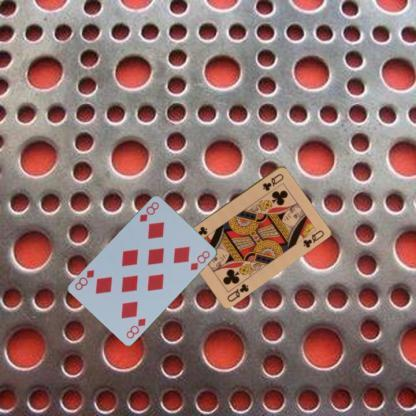8d: (124, 315, 146, 340), (137, 199, 160, 222)
Qc: (224, 281, 250, 303), (260, 170, 285, 192)
